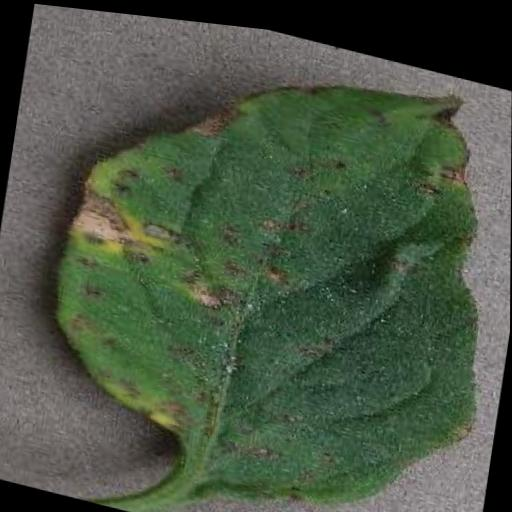Bacterial Spot: (22, 2, 512, 512)
